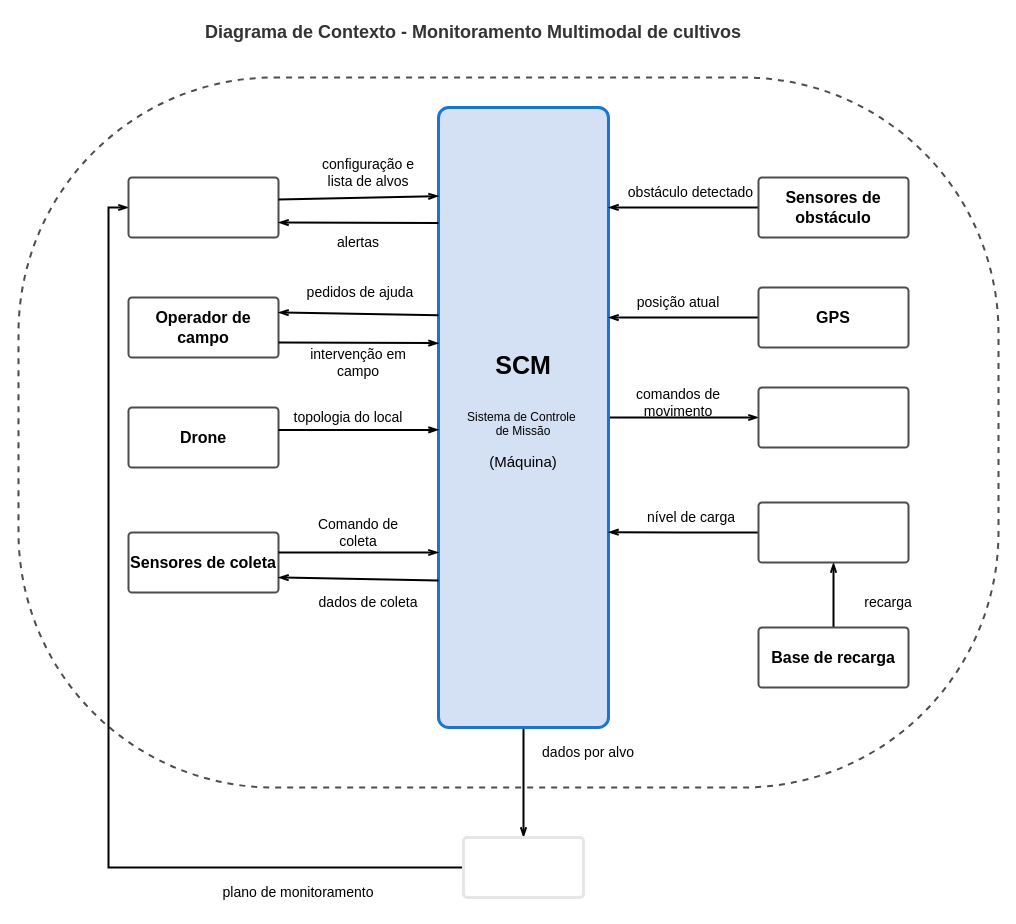
This 1016x924 diagram has some shape labels left out. Here are the shapes that lost their labels. From the top down, the centre of each, then its label:
the point at 203,207: Controlador da missão
the point at 833,417: Motores
the point at 833,532: Bateria
the point at 523,867: Agrônomo
